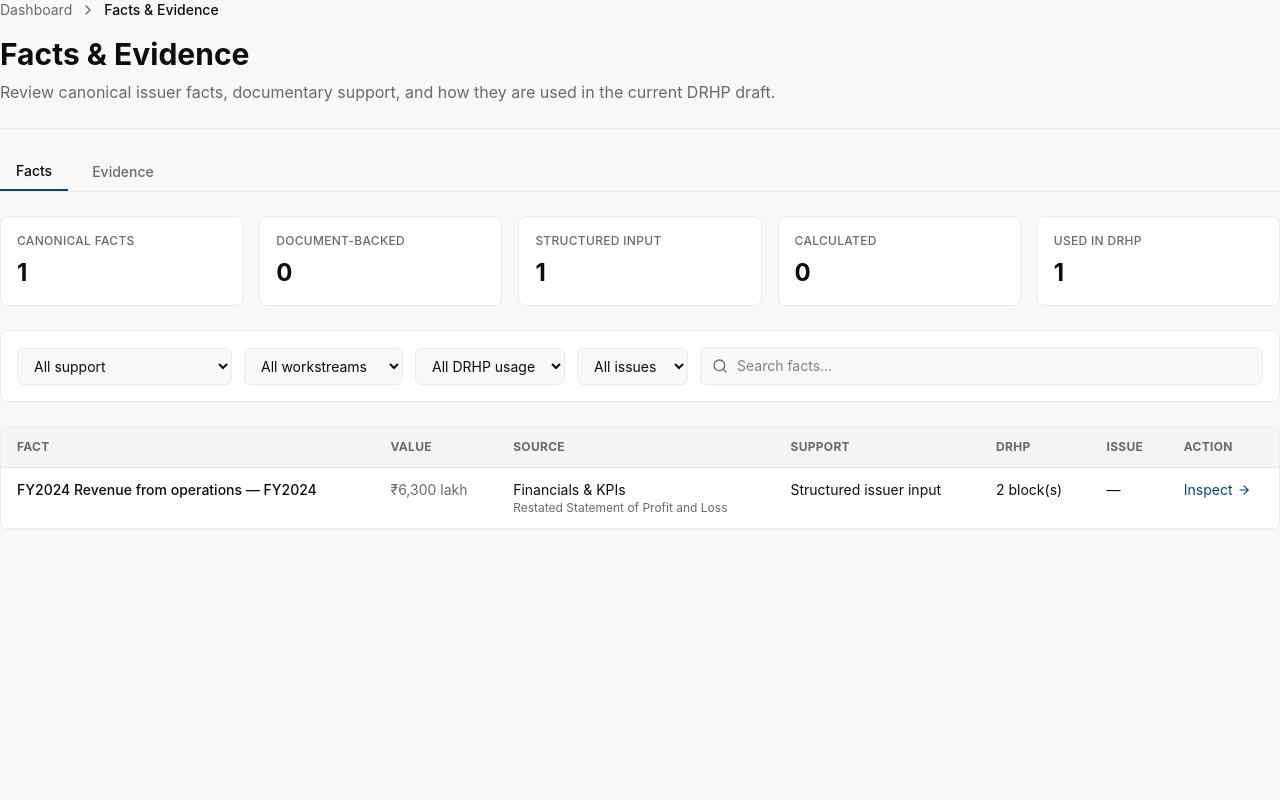
Test: FactsEvidenceWorkspace › opens fact detail drawer
Expected: the text "FY2024 Revenue from operations — FY2024" is shown, [1,468,374,528]
What coordinates should you click on to do the following:
click the button "Inspect"
I would click on:
 (1217, 490)
Its box is [1184,480,1250,500].
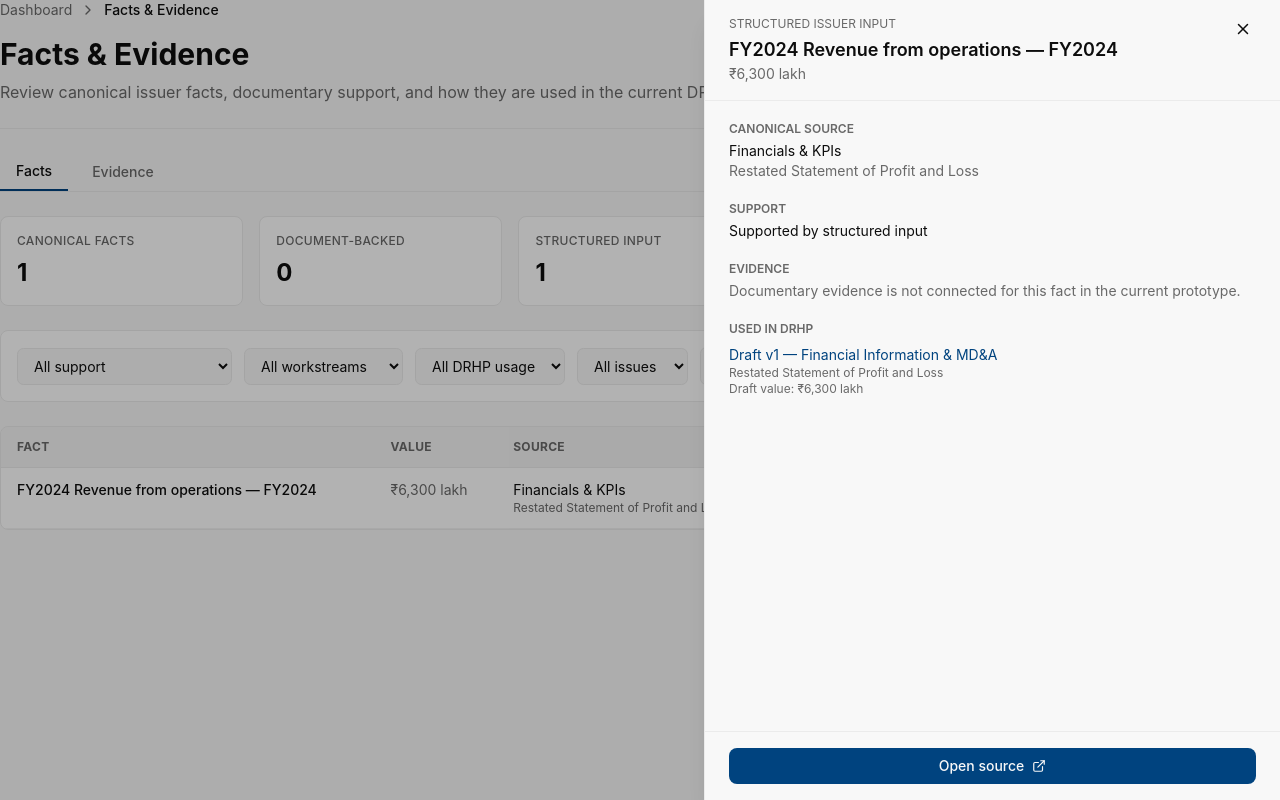
Expected: the text "Documentary evidence is not connected" is shown, [729,282,1241,299]
Expected: the link "Draft v1 — Financial Information & MD&A" is shown, [729,346,997,363]
Expected: the link "Open source" is shown, [729,748,1256,784]
